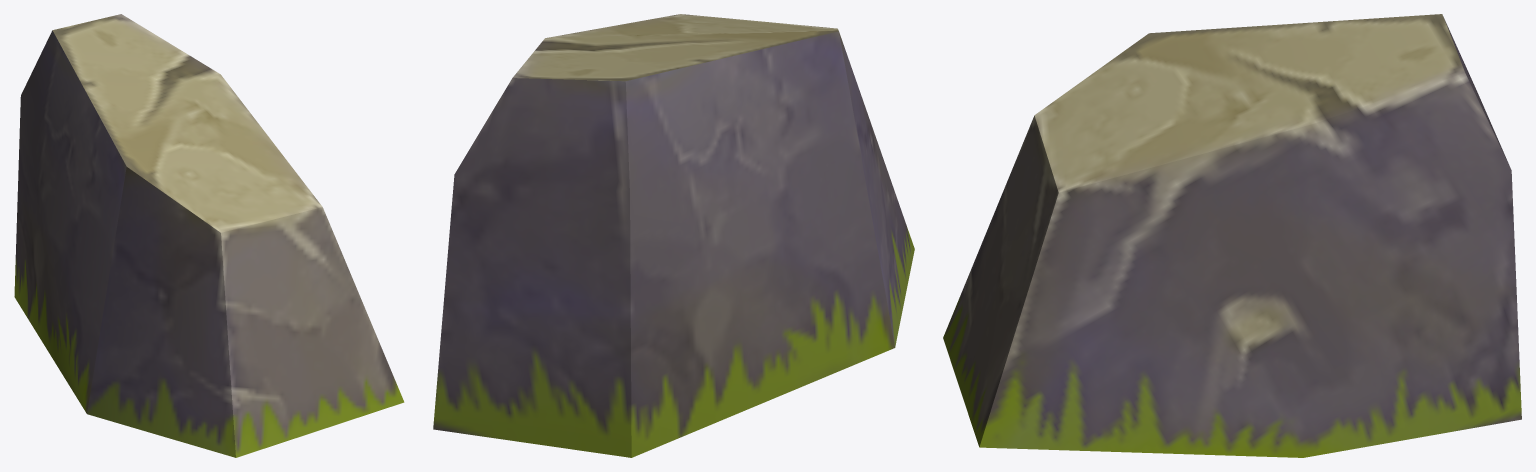
Rendered from scenes_construction_stone01a.FBX.
3 renders of one model, left to right at view 1: azimuth 30°, elevation 25°; view 2: azimuth 150°, elevation 25°; view 3: azimuth 270°, elevation 25°, orthographic. The views are drawn at different scales.
Visible parts, largest first — view 1: scenes_construction_stone01a; view 2: scenes_construction_stone01a; view 3: scenes_construction_stone01a.
Part boxes in pixels (box(x1,y1,x2,y2)): scenes_construction_stone01a: box(14, 14, 404, 457); scenes_construction_stone01a: box(433, 14, 914, 457); scenes_construction_stone01a: box(943, 14, 1521, 457).
Bounding box in the file's own units: 189 × 185 × 289.
